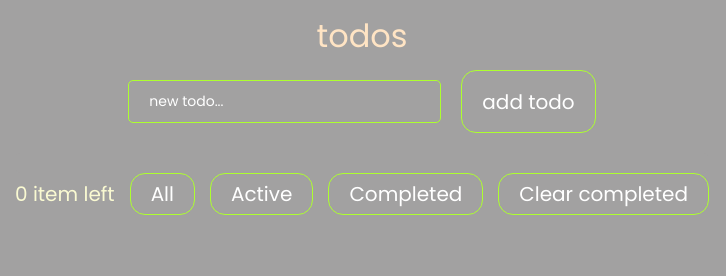
Test case: adds a new todo
Добавляем новую задачу
Type "New Task" into the field with placeholder "new todo..." at (285, 102), box [128, 80, 441, 123]
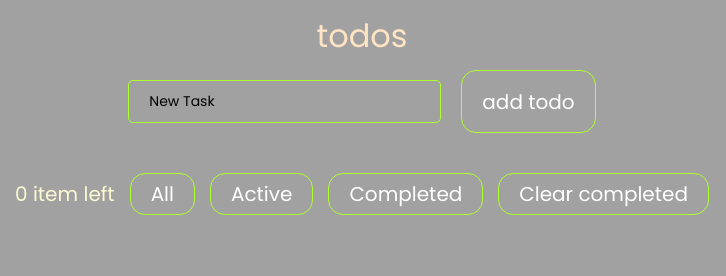
Click the button "add todo" at (528, 102), box [461, 70, 596, 133]
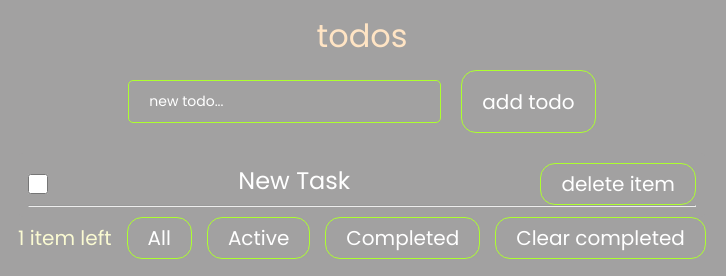
Expected: the text "New Task" is shown, [238, 163, 350, 205]
